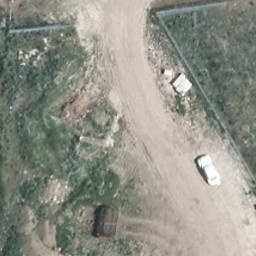car: (196, 154, 224, 185)
